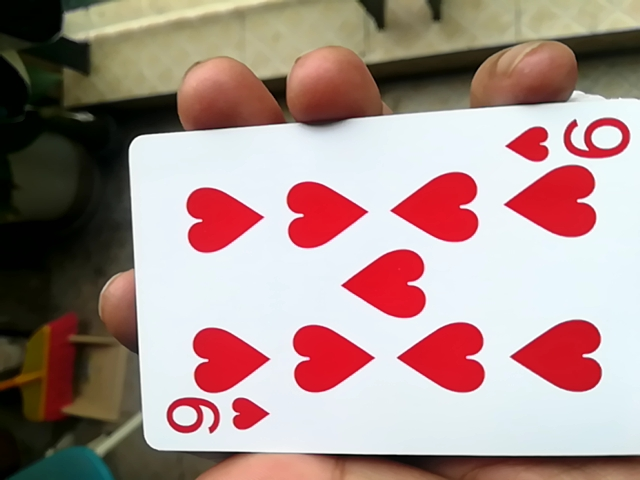hx 9: (125, 109, 635, 467)
